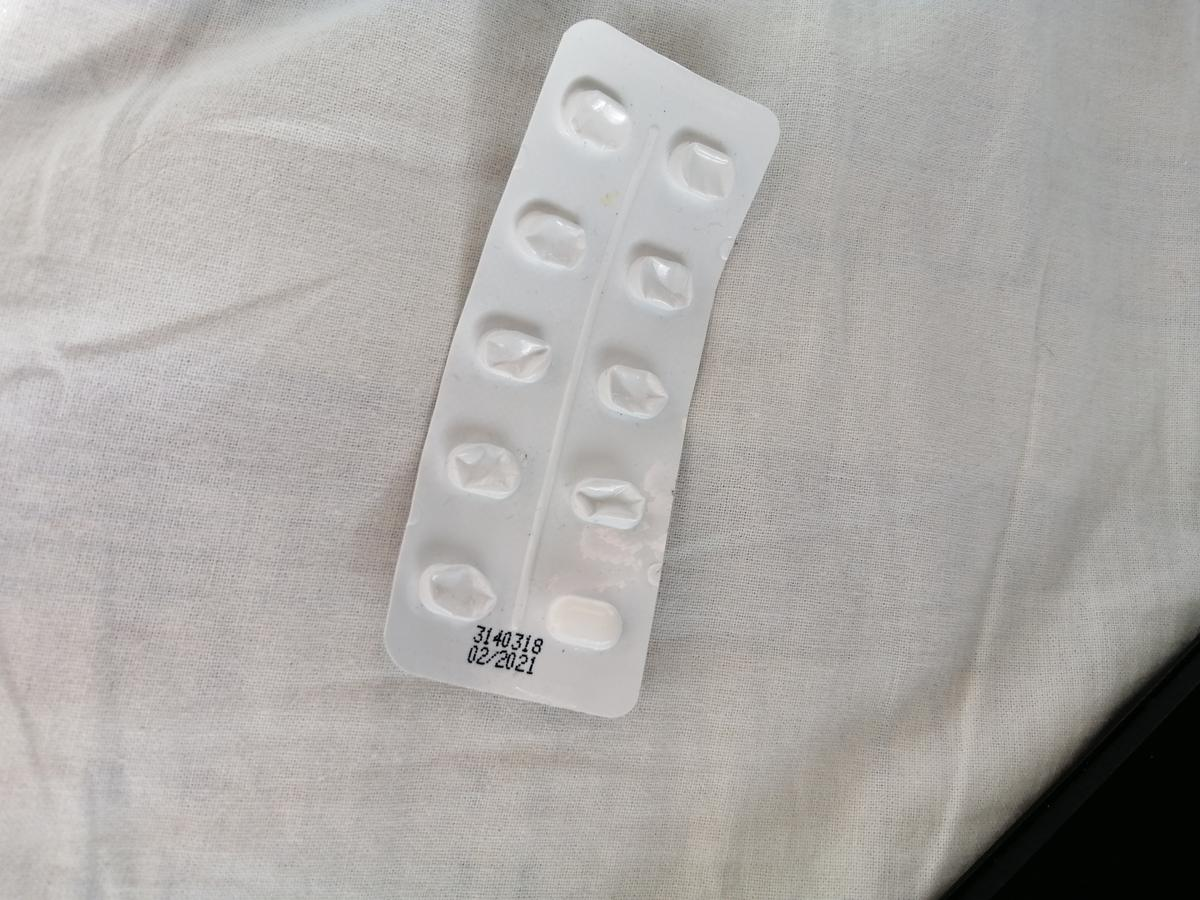tablet: (539, 586, 627, 654)
